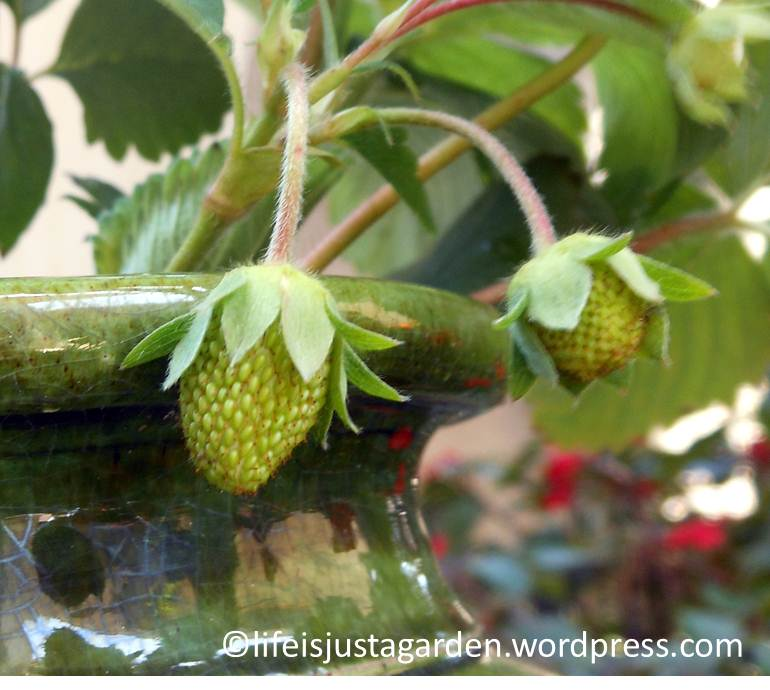unripe_strawberry: (117, 258, 404, 503), (489, 231, 712, 400)
